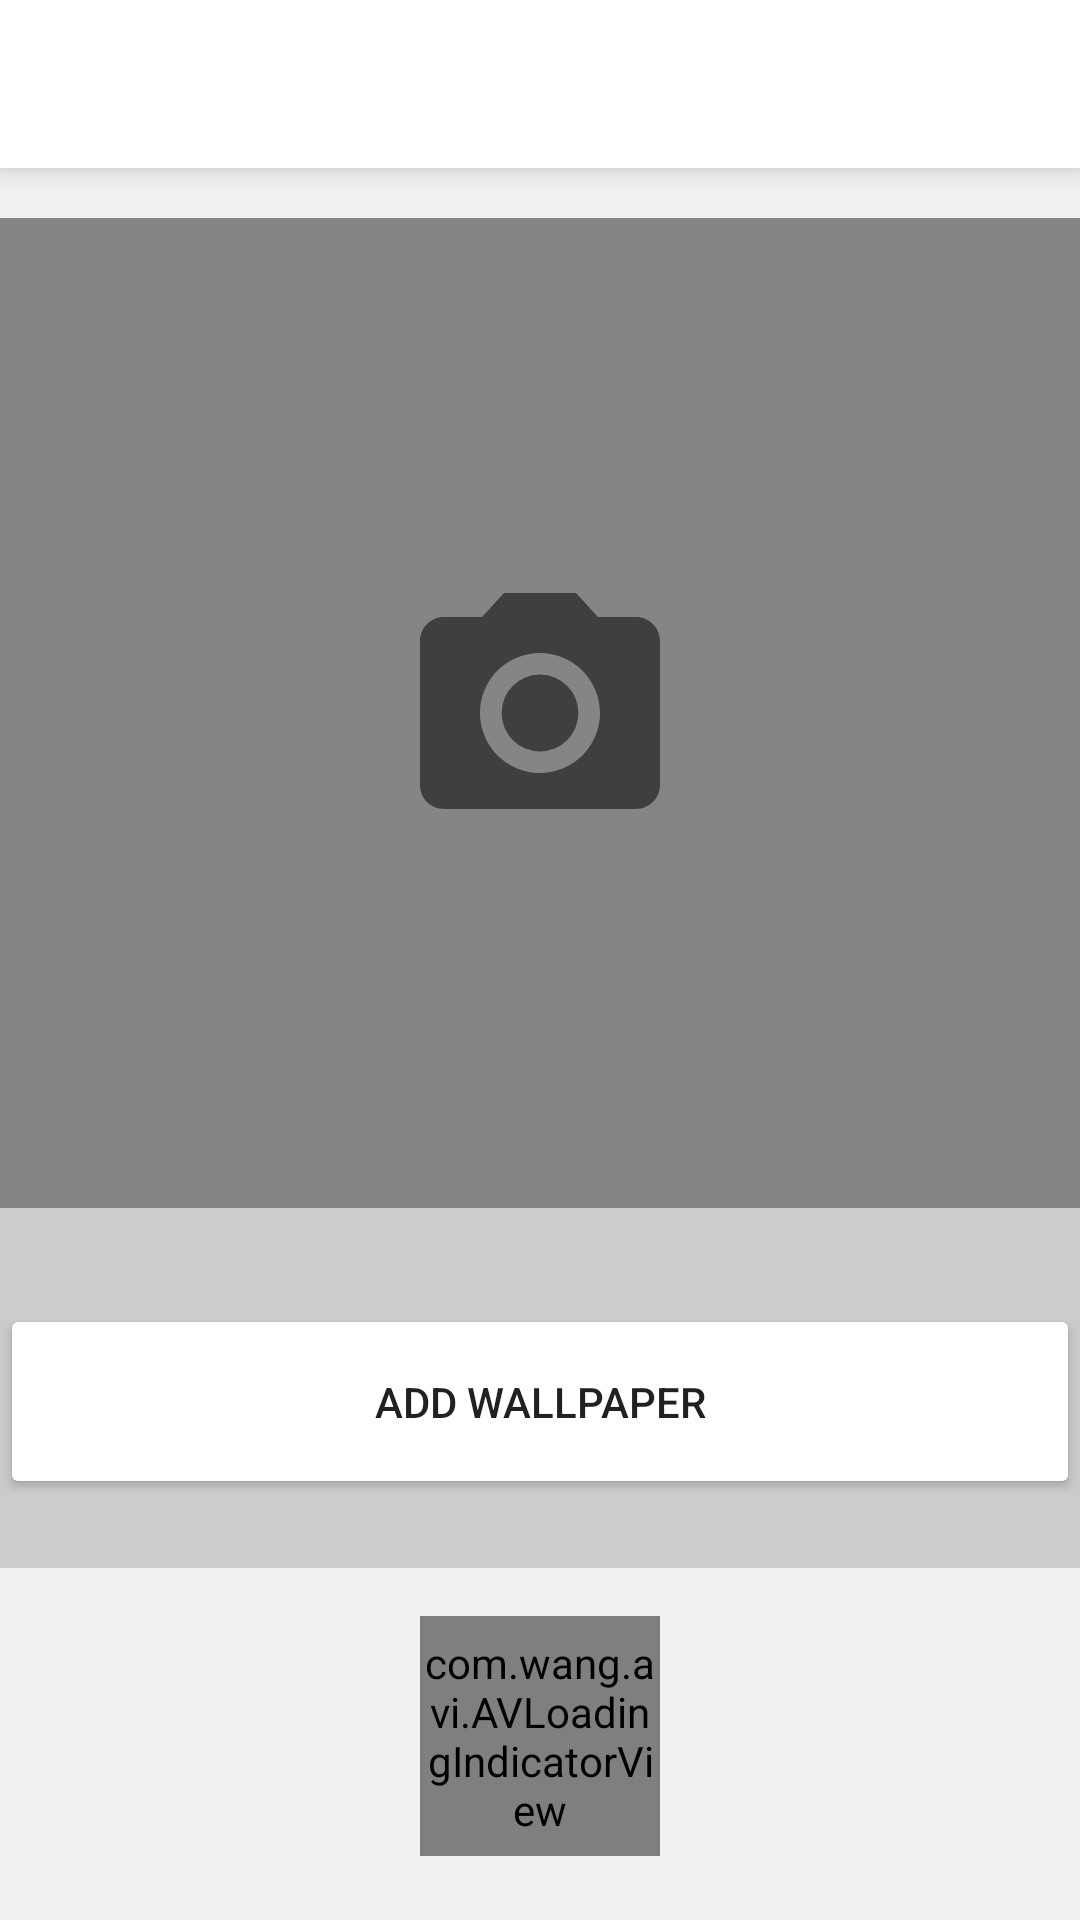

Screen size 1080×1920. Icon name, then its center in pixels as [x,y]:
camera: [540,701]
